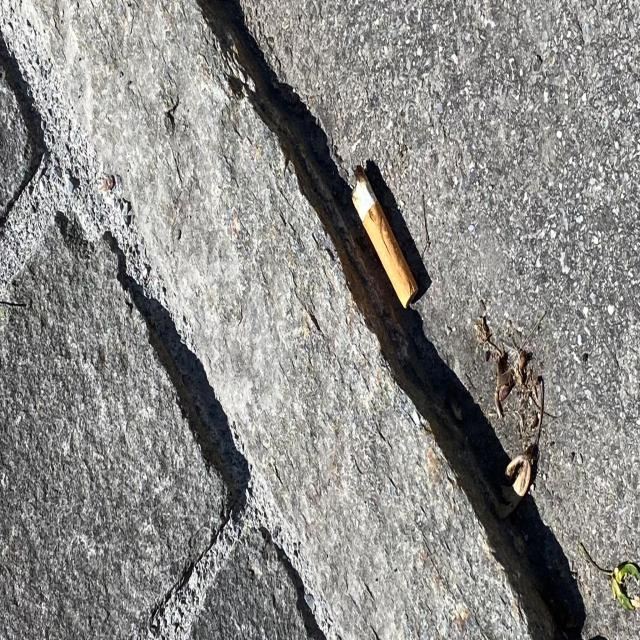other waste: (350, 163, 419, 311)
